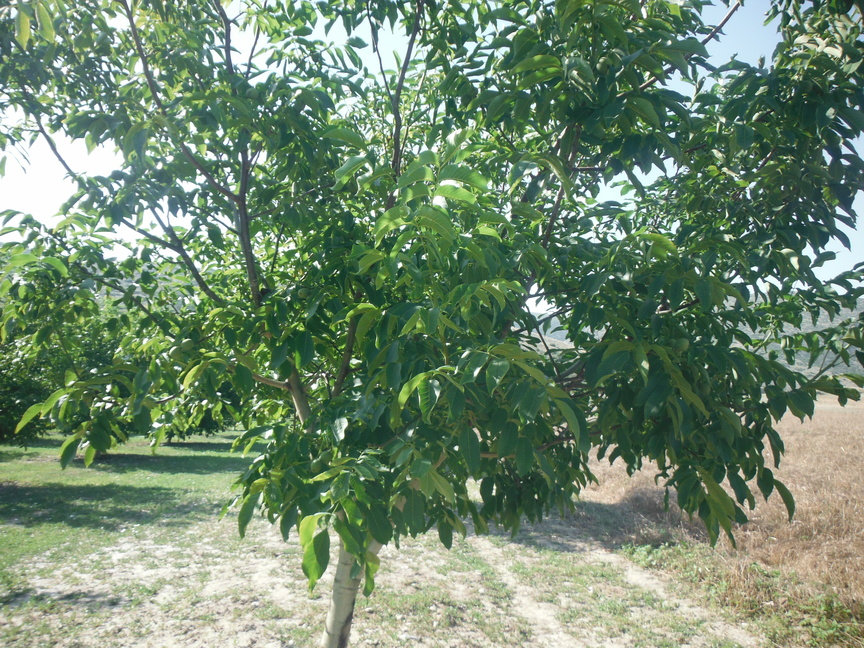walnut: (289, 93, 310, 118), (593, 53, 615, 75), (164, 341, 186, 363), (784, 157, 803, 180), (671, 336, 693, 355), (244, 83, 263, 104), (796, 77, 815, 98), (772, 372, 791, 393), (294, 283, 312, 304), (78, 387, 96, 408), (318, 445, 335, 466), (179, 333, 195, 355), (307, 456, 325, 474), (698, 378, 714, 398), (511, 229, 527, 248), (466, 81, 480, 101), (459, 92, 475, 108), (670, 347, 684, 362), (664, 337, 676, 350)
